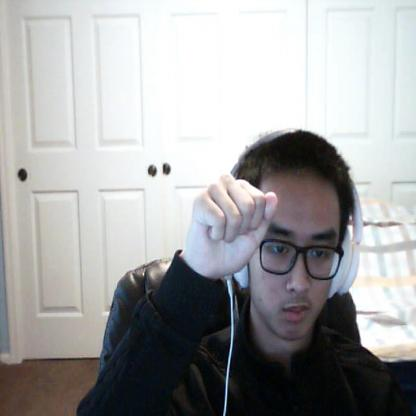fist: (187, 172, 280, 280)
